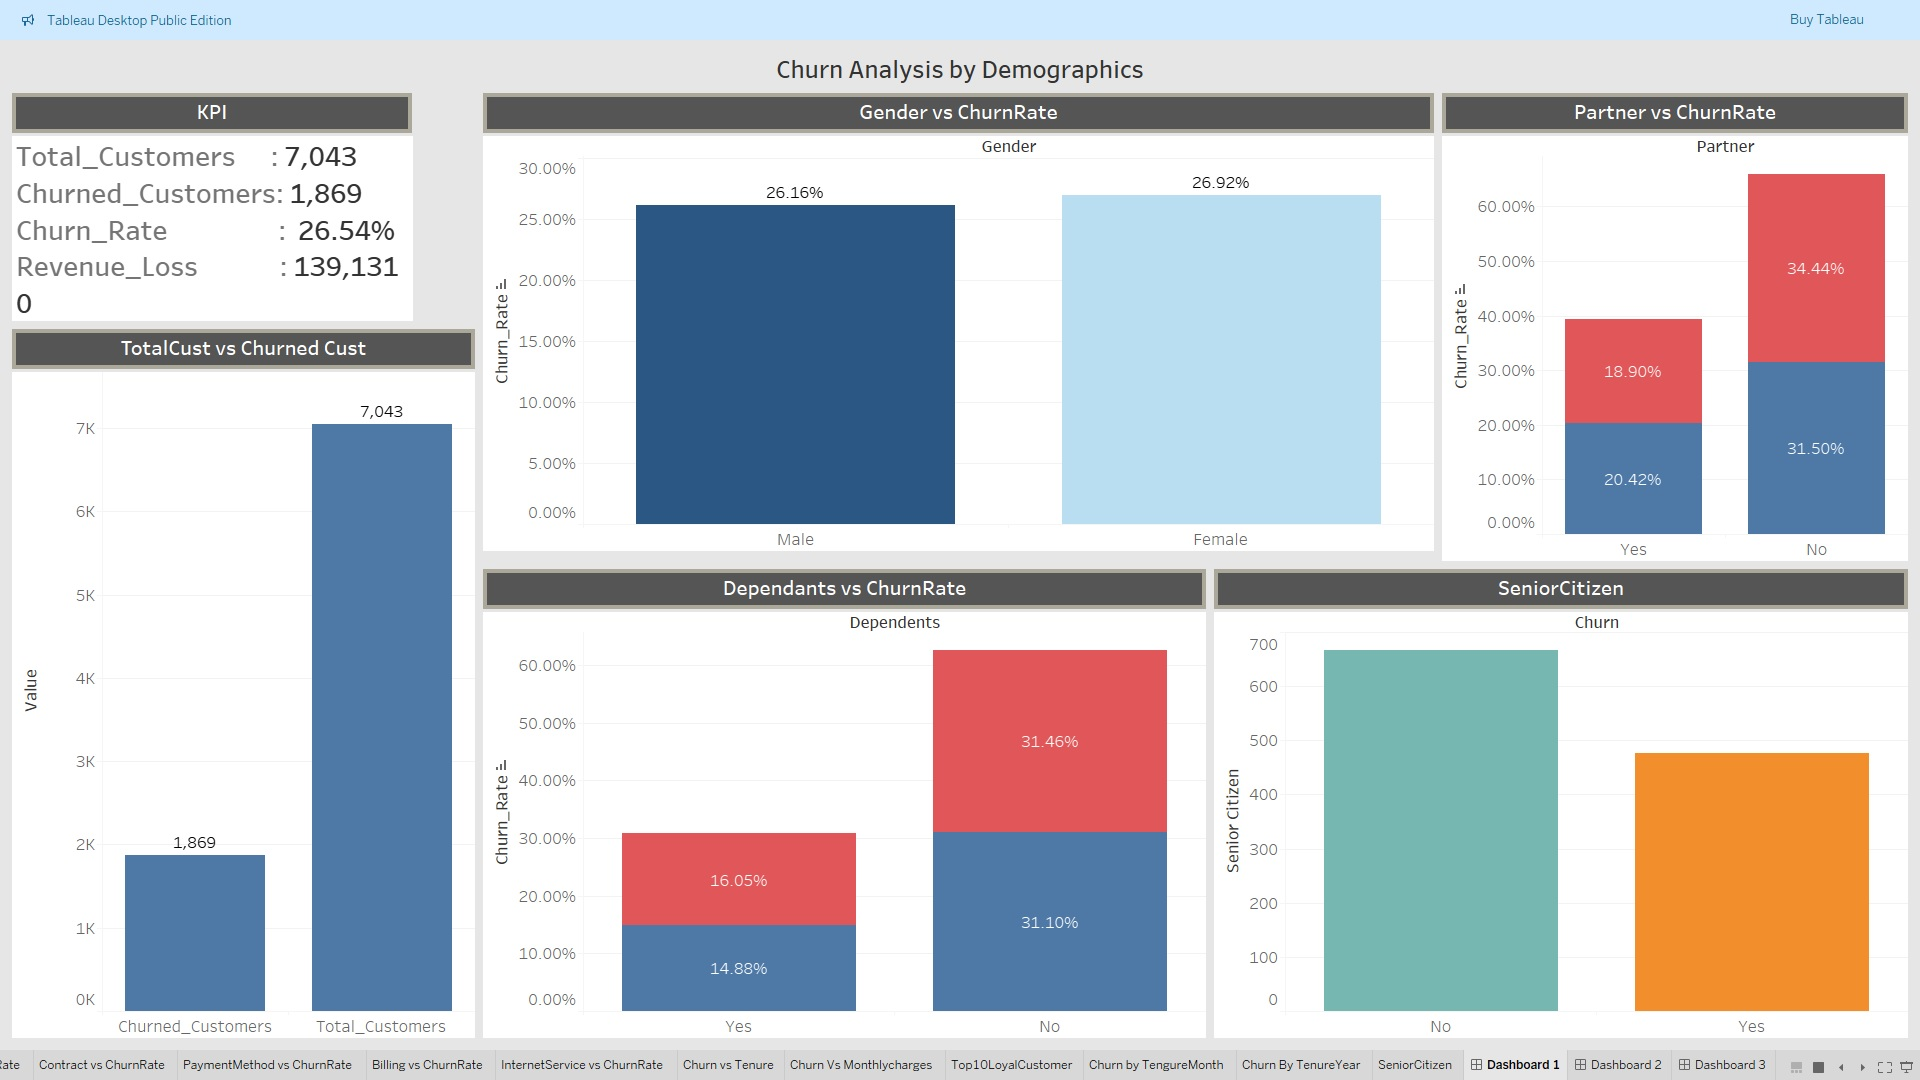

The dashboard page shown, as its layout file describes it:
{"tool":"tableau","page":{"name":"Dashboard 1","canvas":[1000,1000],"units":"permille","ordinal":0},"visuals":[{"type":"title","box":[4.7,9.3,990.6,47.5]},{"type":"worksheet","title":"KPI","mark":"Automatic","box":[4.7,56.7,245.2,230.3]},{"type":"worksheet","title":"Gender vs ChurnRate","mark":"Automatic","rows":["Calculation_52635884943380483"],"cols":["gender"],"box":[249.8,56.7,498.9,467]},{"type":"worksheet","title":"Partner vs ChurnRate","mark":"Automatic","rows":["Calculation_52635884943380483"],"cols":["Partner"],"box":[748.8,56.7,246.5,467]},{"type":"worksheet","title":"TotalCust vs Churned Cust","mark":"Automatic","box":[4.7,287,245.2,703.7]},{"type":"worksheet","title":"Dependants vs ChurnRate","mark":"Automatic","rows":["Calculation_52635884943380483"],"cols":["Dependents"],"box":[249.8,523.7,381.2,467]},{"type":"worksheet","title":"SeniorCitizen","mark":"Automatic","rows":["SeniorCitizen"],"cols":["Churn"],"box":[631.1,523.7,364.2,467]}]}

Visuals, with their boxes on the dashboard's canvas, which has no fixed pixel size, in thousandths of its width and height (x1, y1, x2, y2). These are canvas units, not pixel positions in the 1920x1080 screenshot, which may show the page scaled, cropped or inside an application window:
title: detection(5, 9, 995, 57)
"KPI" worksheet: detection(5, 57, 250, 287)
"Gender vs ChurnRate" worksheet: detection(250, 57, 749, 524)
"Partner vs ChurnRate" worksheet: detection(749, 57, 995, 524)
"TotalCust vs Churned Cust" worksheet: detection(5, 287, 250, 991)
"Dependants vs ChurnRate" worksheet: detection(250, 524, 631, 991)
"SeniorCitizen" worksheet: detection(631, 524, 995, 991)
